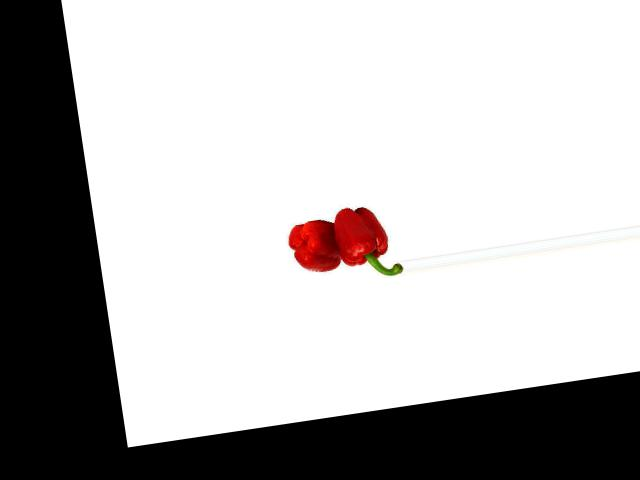bell_pepper: (286, 214, 342, 279)
